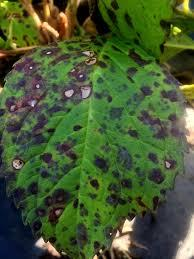leaf_spot: (11, 37, 171, 246)
